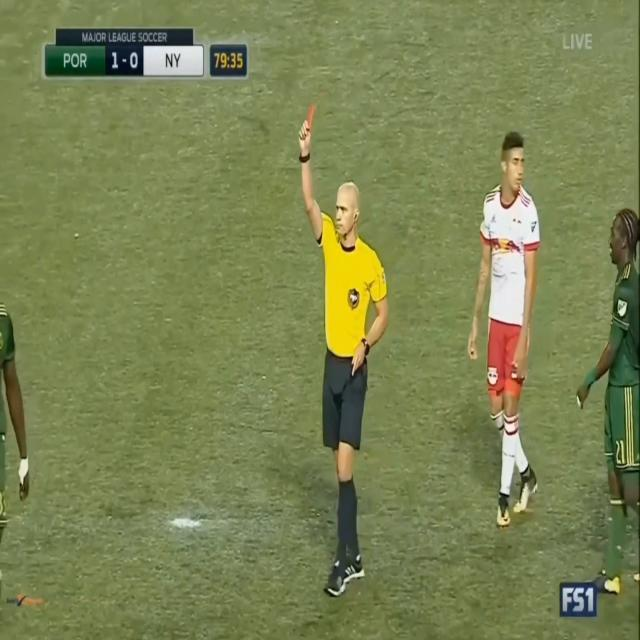player: (474, 121, 543, 531), (574, 190, 640, 600)
